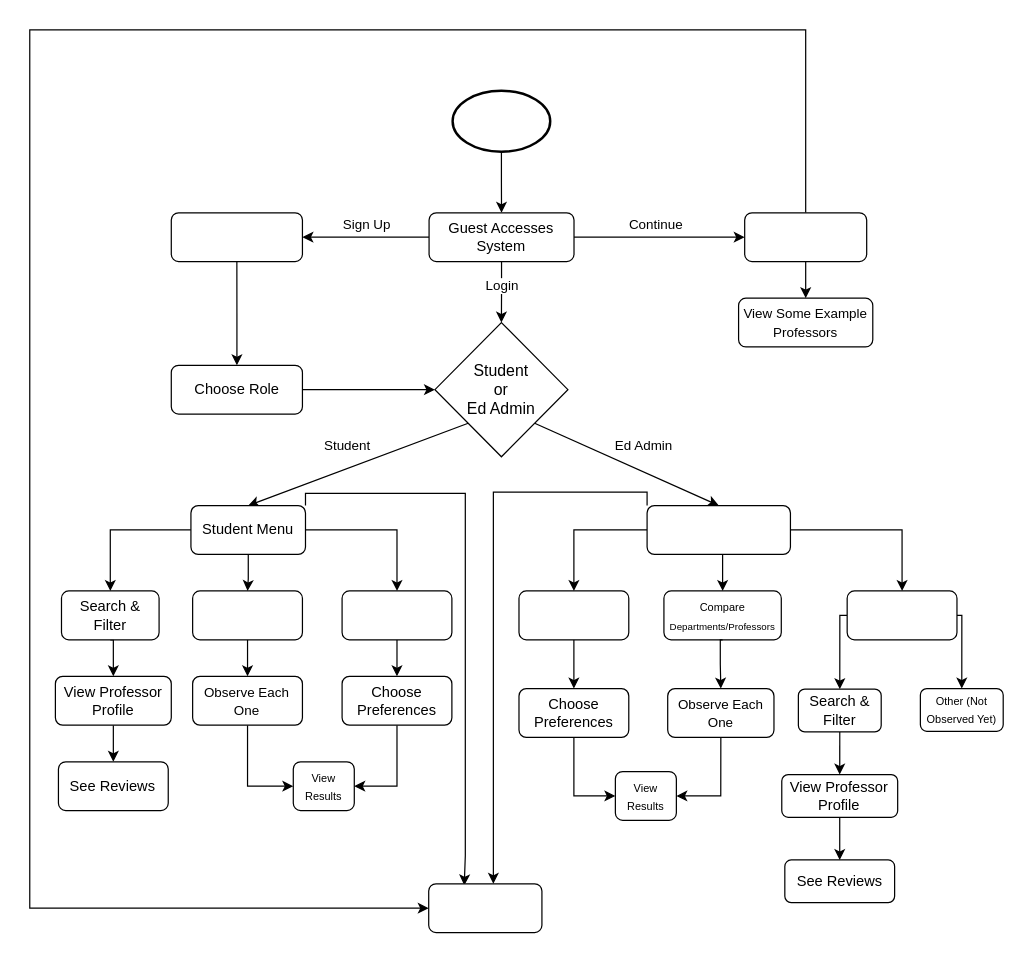
This 1025x954 diagram has some shape labels left out. The shapes that lost their labels are listed below. From the top down, each one's centre as x and y in pixels, then its label:
At point 501,120: "Start".
At point 236,237: "Create Account".
At point 805,237: "View Public Dashboard".
At point 718,529: "Ed Admin Menu".
At point 246,615: "Compare Professors/Courses".
At point 396,615: "Get Recommendations".
At point 573,615: "Analyze Feedback Patterns".
At point 901,615: "View Management Dashboards".
At point 484,908: "End Session".
